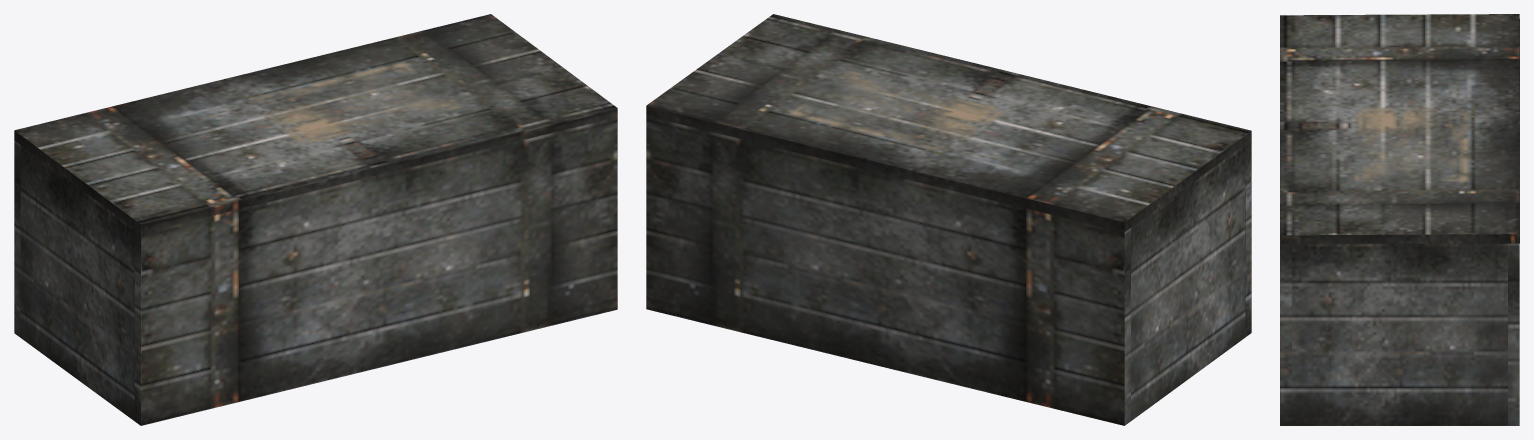
The model's file is AmmoCrate.fbx.
The picture shows the model from 3 angles, left to right: view 1: azimuth 30°, elevation 25°; view 2: azimuth 150°, elevation 25°; view 3: azimuth 270°, elevation 25°; orthographic projection. The views are drawn at different scales.
Visible parts, largest first — view 1: Steny01, viko, Steny05, Steny04; view 2: Steny04, viko, Steny05, Steny01; view 3: viko, Steny03, Steny01, Steny04.
Boxes of the visible parts, x1,y1,x2,y2 form: Steny01: [134, 117, 617, 425]; viko: [14, 14, 617, 232]; Steny05: [20, 145, 134, 420]; Steny04: [14, 140, 20, 337]; Steny04: [646, 116, 1130, 425]; viko: [646, 14, 1251, 232]; Steny05: [1131, 144, 1245, 420]; Steny01: [1245, 139, 1251, 337]; viko: [1280, 14, 1519, 244]; Steny03: [1292, 243, 1507, 425]; Steny01: [1280, 240, 1291, 425]; Steny04: [1508, 243, 1519, 425].
Bounding box in the file's own units: 109 × 44.18 × 50.01.
